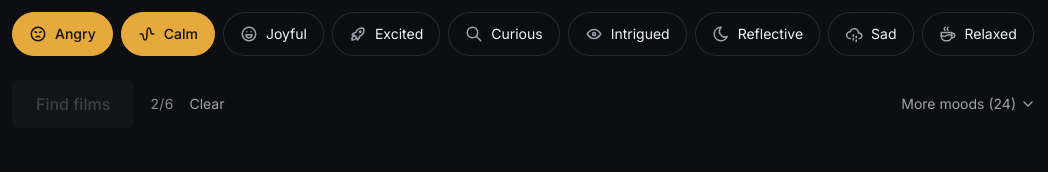
Test: MoodBar › starts from the current search, leads with it, and only submits changes
Expected: the buttons read "Angry", "Calm", in this order, [12, 12, 113, 56]; [121, 12, 215, 56]
Expected: the button "Angry" is shown, [12, 12, 113, 56]
Click the button "Joyful" at (273, 34), box [223, 12, 324, 56]
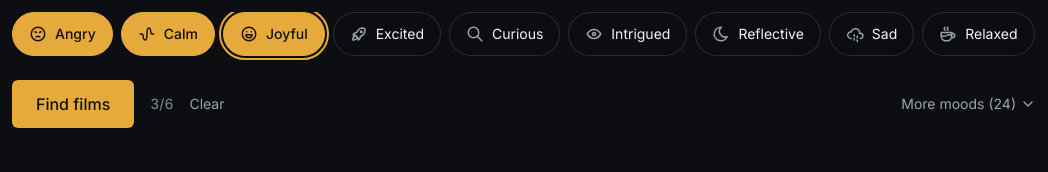
Now the button "Find films" is enabled, box [12, 80, 134, 128]
